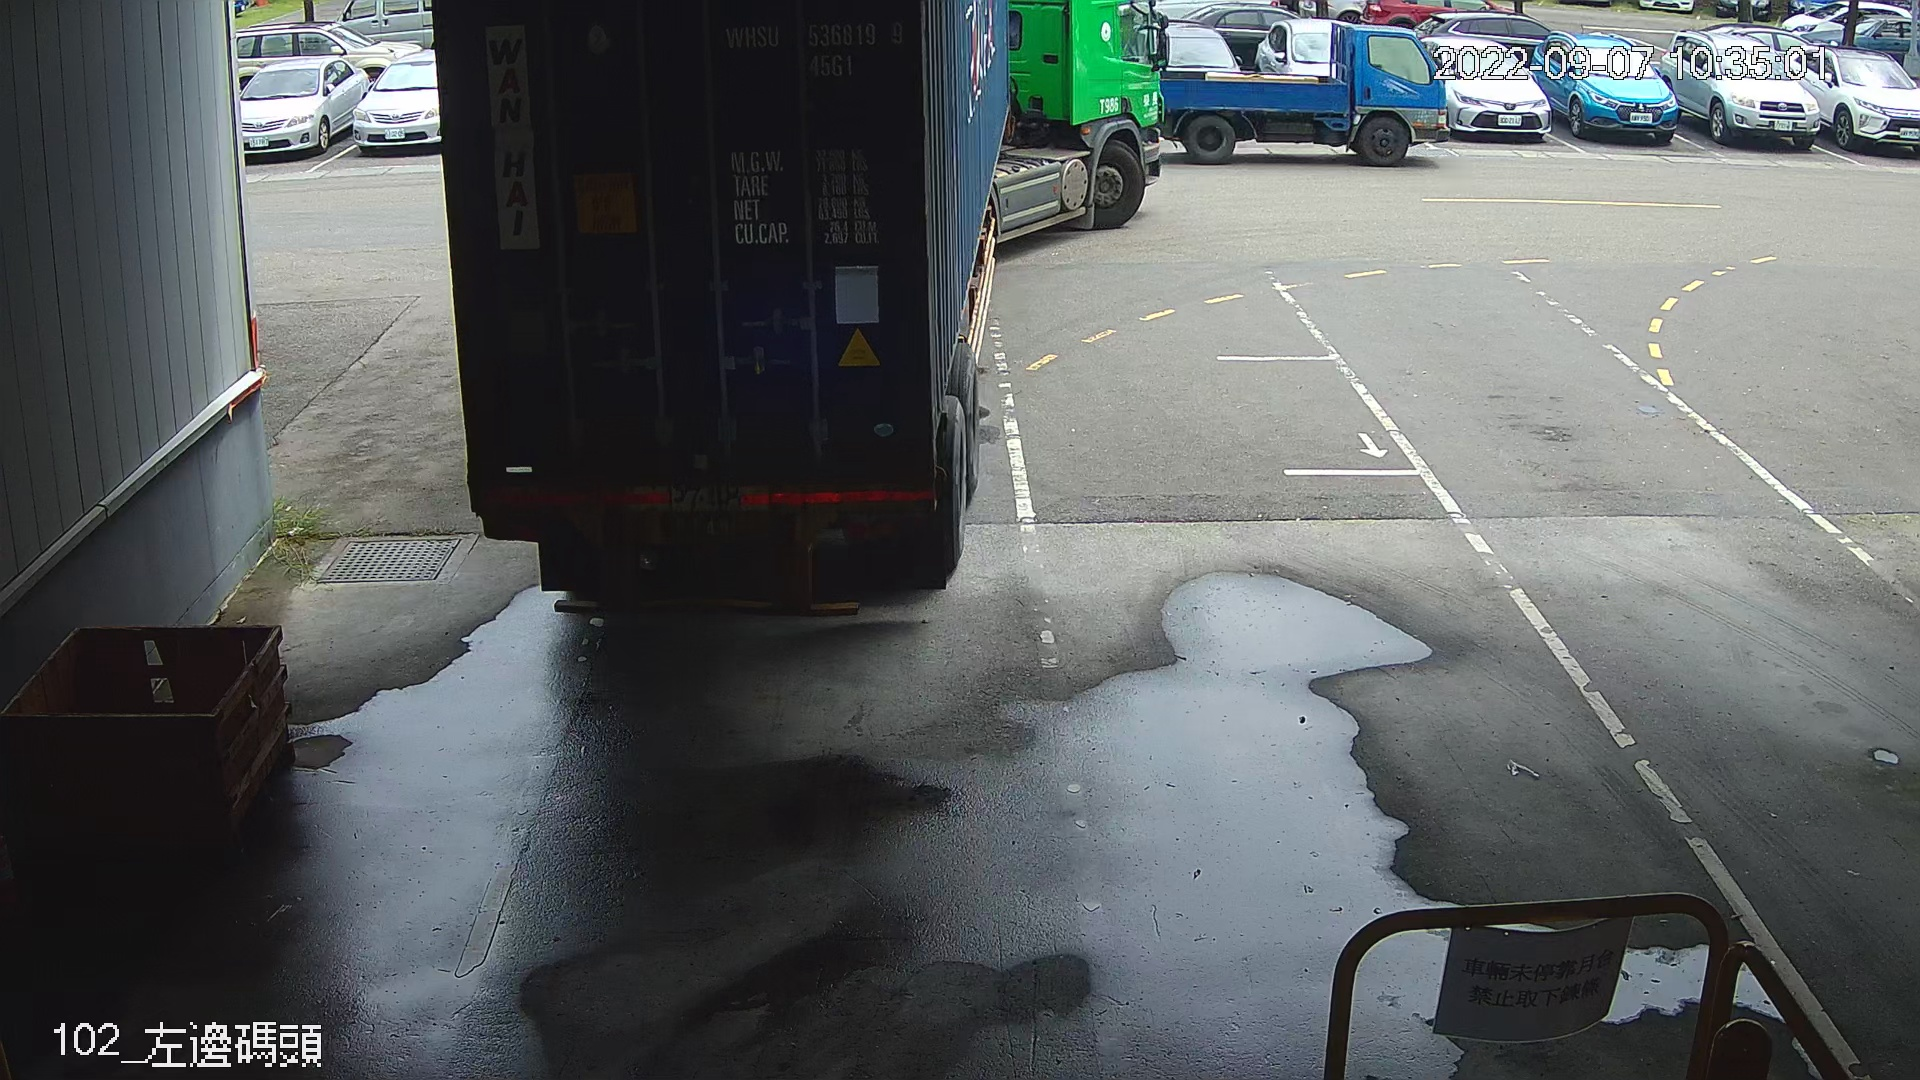container: (719, 15, 913, 84)
